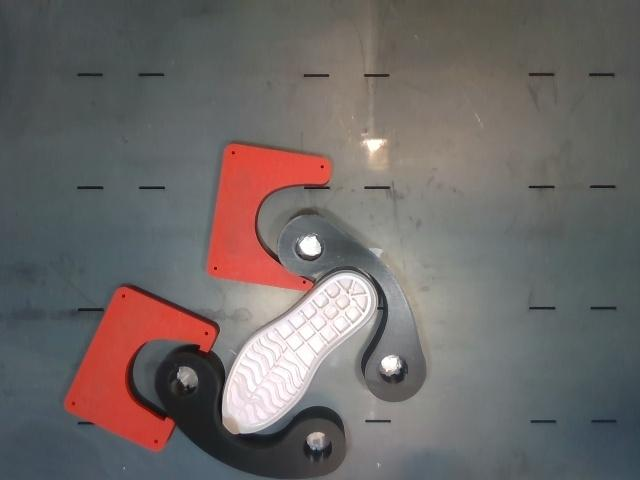shoes: (223, 274, 375, 433)
